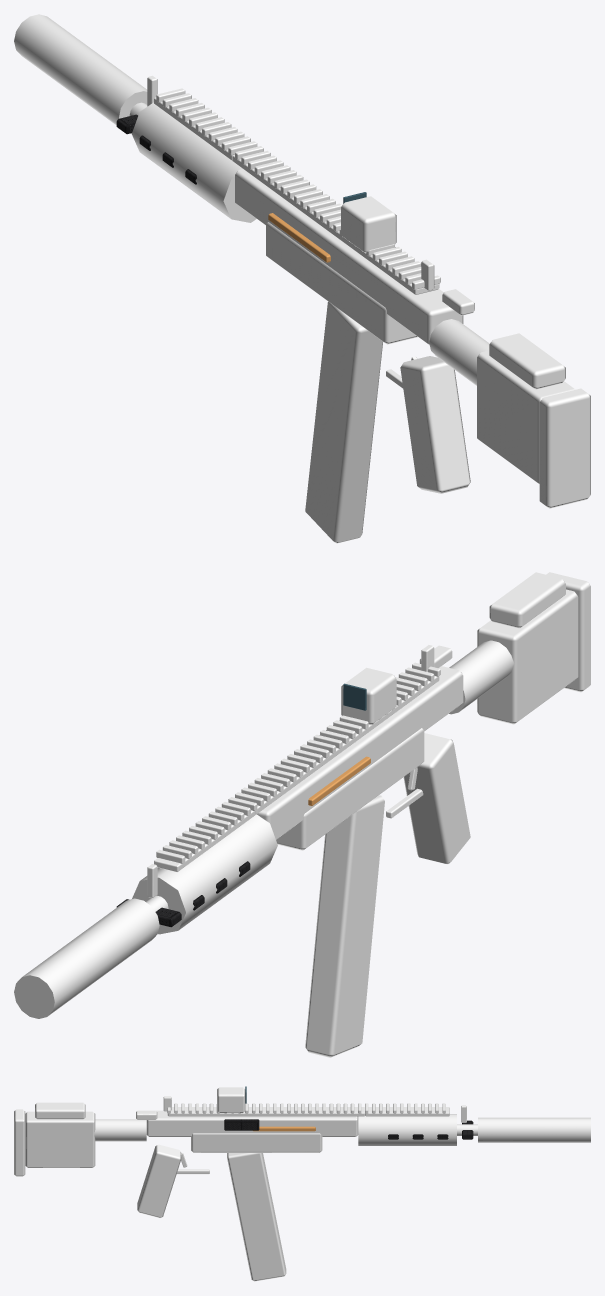
File: vespa.glb
3 renders of one model, top to bottom at view 1: azimuth 30°, elevation 25°; view 2: azimuth 150°, elevation 25°; view 3: azimuth 270°, elevation 25°, orthographic. The views are drawn at different scales.
Bounding box in the file's own units: 0.05 × 0.2962 × 0.818.
5 materials, 1 textured.
